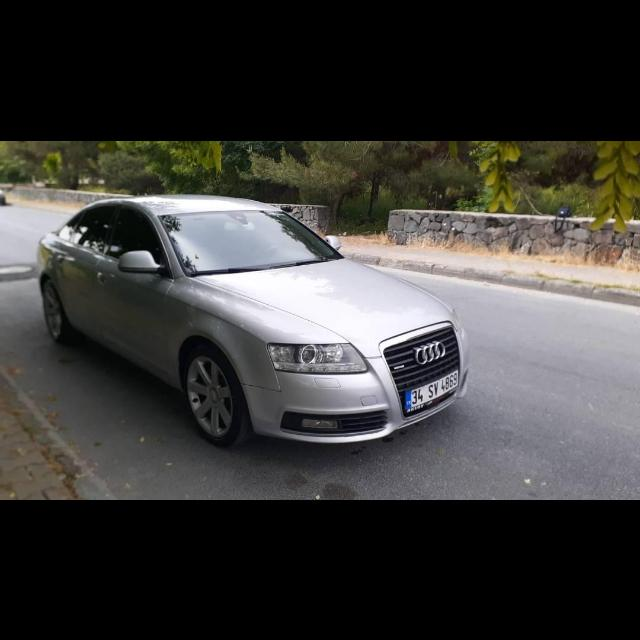Plaka: (406, 369, 458, 409)
